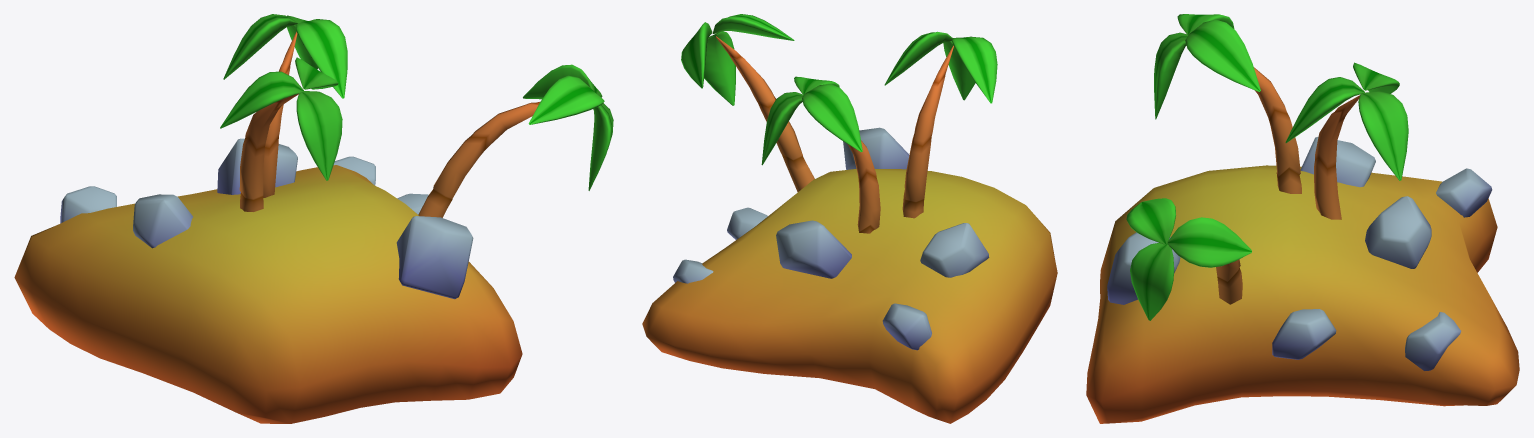
Rendered from ОООстров.fbx.
The picture shows the model from 3 angles, left to right: view 1: azimuth 30°, elevation 25°; view 2: azimuth 150°, elevation 25°; view 3: azimuth 270°, elevation 25°; orthographic projection. The views are drawn at different scales.
Visible parts, largest first — view 1: Cube.038, NurbsPath.001, NurbsPath.002, NurbsPath.004, Cube.041, Cube.040, Cube.039, Cube.043, Cube.044; view 2: Cube.038, NurbsPath.001, NurbsPath.002, NurbsPath.004, Cube.039, Cube.040, Cube.041, Cube.043, Cube.042, Cube.044; view 3: Cube.038, NurbsPath.004, NurbsPath.002, NurbsPath.001, Cube.039, Cube.042, Cube.044, Cube.041, Cube.040, Cube.043.
Boxes of the visible parts, x1,y1,x2,y2 form: Cube.038: (14,165,522,423); NurbsPath.001: (220,57,342,211); NurbsPath.002: (418,64,613,217); NurbsPath.004: (223,14,347,197); Cube.041: (396,216,473,299); Cube.040: (133,194,192,248); Cube.039: (217,138,297,194); Cube.043: (60,186,116,223); Cube.044: (333,156,375,185); Cube.038: (642,169,1057,423); NurbsPath.001: (884,31,997,218); NurbsPath.002: (681,14,814,191); NurbsPath.004: (761,76,880,233); Cube.039: (776,220,851,278); Cube.040: (920,223,989,277); Cube.041: (843,127,909,169); Cube.043: (882,303,931,350); Cube.042: (727,207,767,239); Cube.044: (673,259,713,283); Cube.038: (1086,165,1519,423); NurbsPath.004: (1285,62,1408,219); NurbsPath.002: (1126,198,1251,320); NurbsPath.001: (1154,14,1301,193); Cube.039: (1365,196,1431,268); Cube.042: (1272,309,1336,359); Cube.044: (1405,312,1461,370); Cube.041: (1107,232,1180,304); Cube.040: (1300,136,1375,187); Cube.043: (1436,168,1492,217).
Size of the model in its own units: 715 by 502 by 588.
